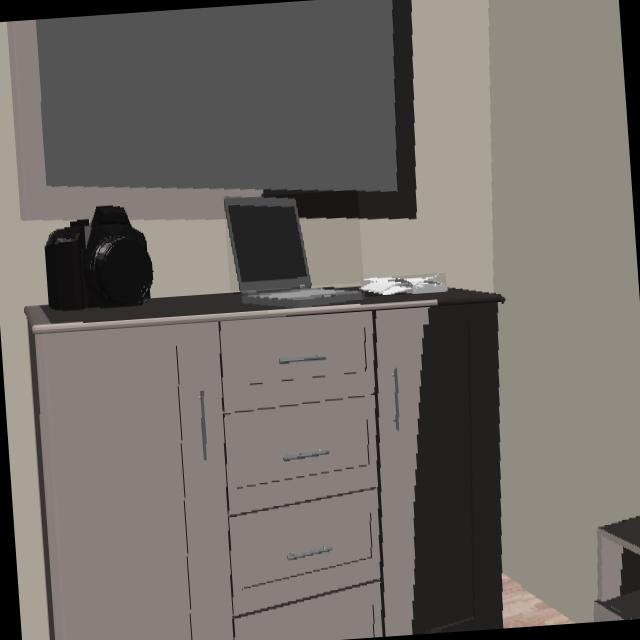book: (361, 277, 445, 295)
cabinet: (25, 290, 502, 640)
laptop: (224, 199, 363, 309)
